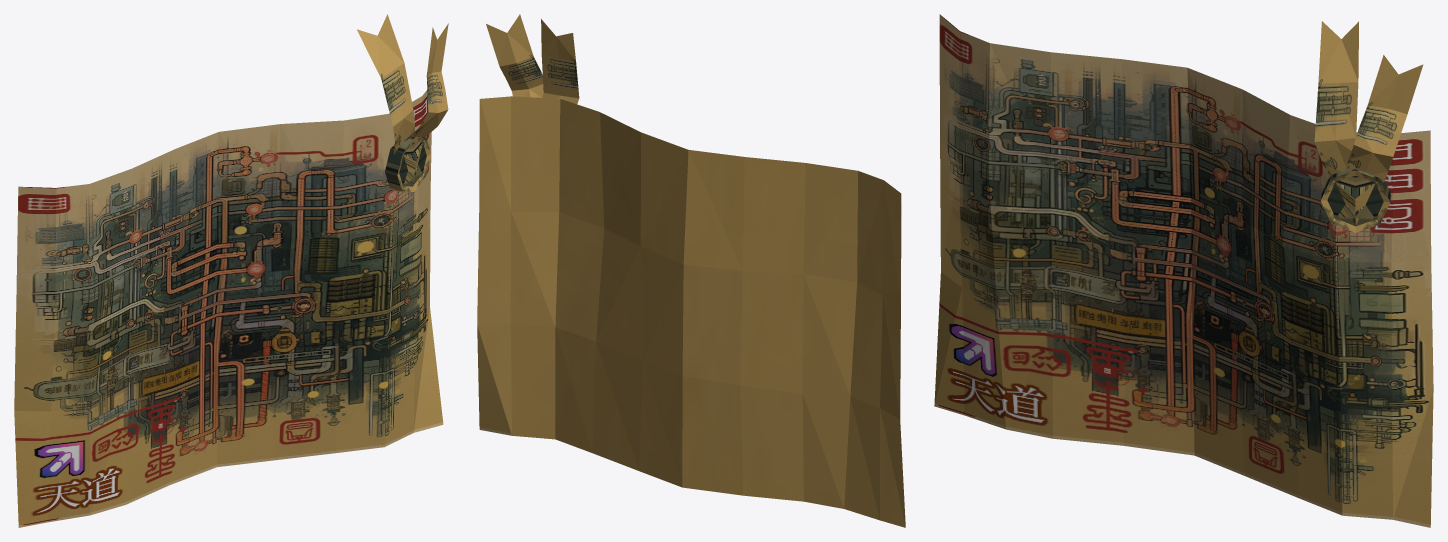
The model's file is title-deed.glb.
3 renders of one model, left to right at view 1: azimuth 30°, elevation 25°; view 2: azimuth 150°, elevation 25°; view 3: azimuth 330°, elevation 25°, orthographic. The views are drawn at different scales.
Visible parts, largest first — view 1: towntitledeed; view 2: towntitledeed; view 3: towntitledeed.
Part boxes in pixels (x1,y1,x2,y2): towntitledeed: (14, 14, 448, 527); towntitledeed: (477, 14, 905, 527); towntitledeed: (934, 14, 1433, 527).
Size of the model in its own units: 0.5374 by 0.5133 by 0.0809.
1 material, 1 textured.
